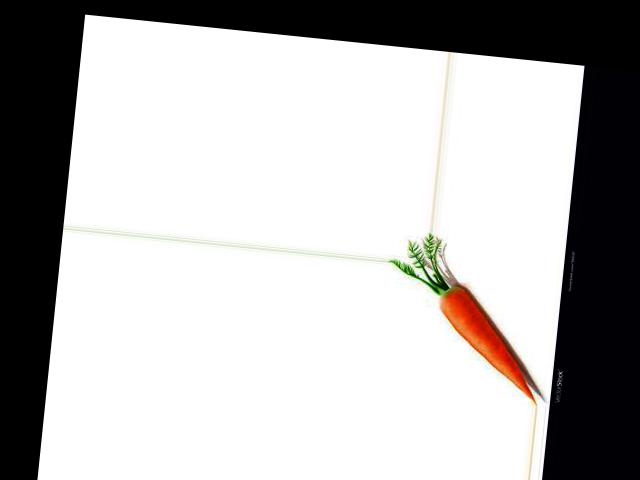carrot: (425, 281, 550, 402)
